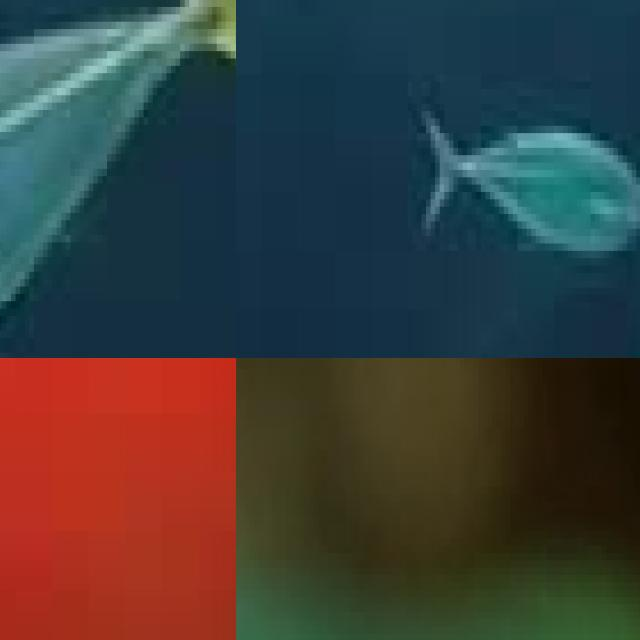fish: (0, 0, 236, 358), (0, 358, 236, 640)
